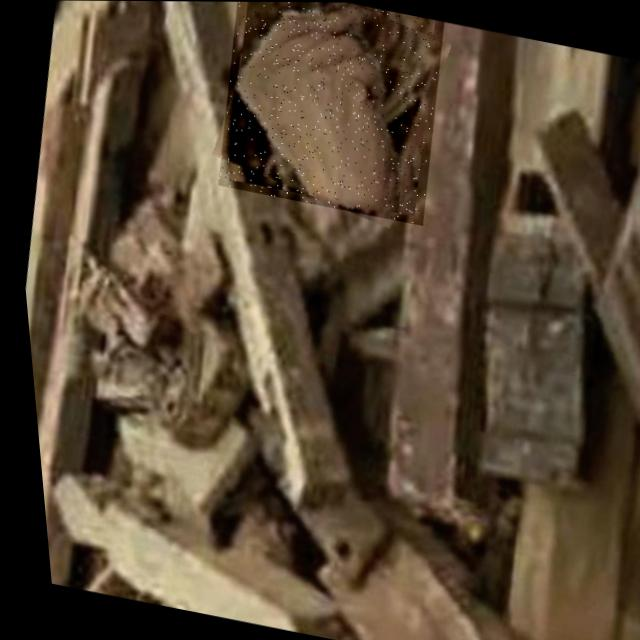Person in Rubble: (202, 1, 459, 225)
